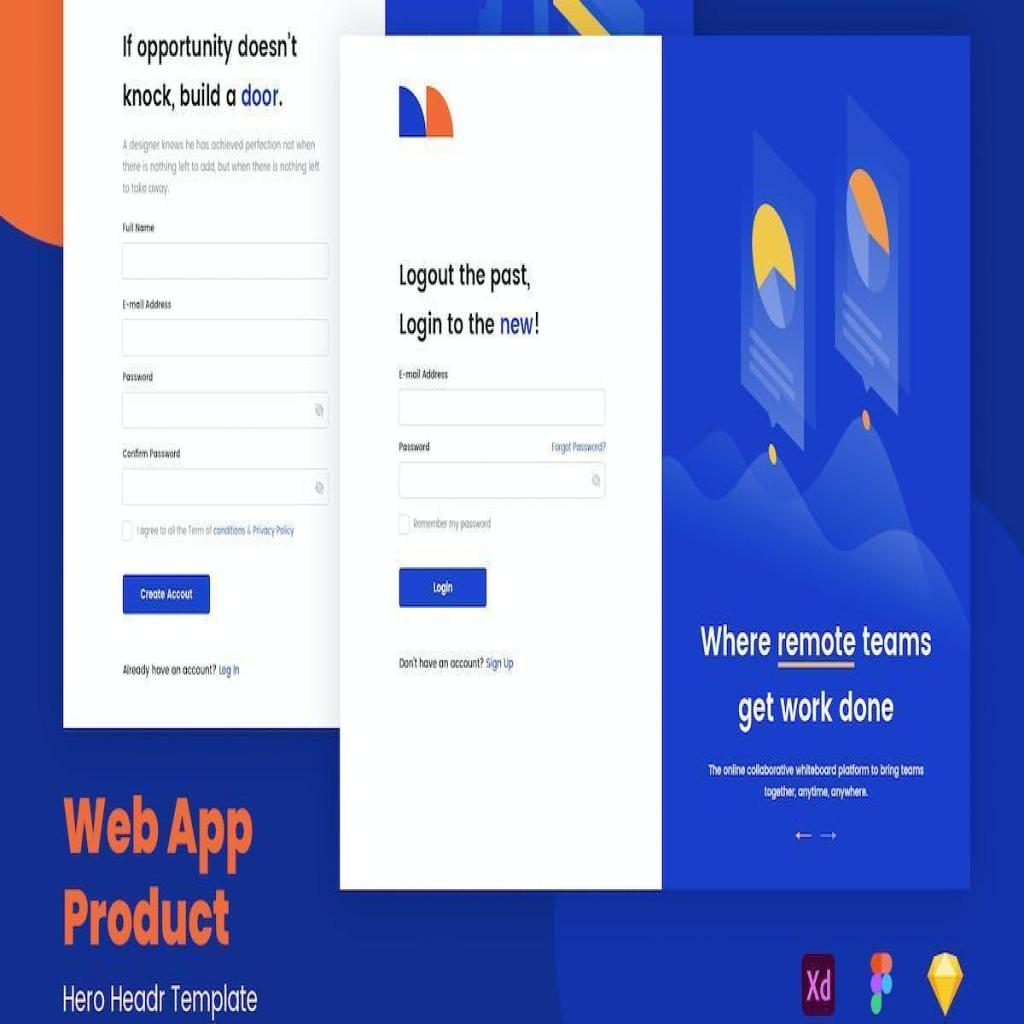button: (122, 574, 211, 614), (400, 569, 486, 608)
checkbox: (396, 510, 412, 536), (120, 516, 135, 542)
input: (122, 467, 329, 507), (398, 389, 605, 429), (120, 317, 328, 356), (398, 463, 606, 501), (122, 242, 329, 280), (122, 392, 330, 429)
label: (394, 252, 542, 345), (136, 520, 294, 543), (411, 515, 494, 533), (121, 292, 174, 316), (121, 446, 184, 464), (400, 369, 452, 385), (119, 368, 157, 388), (123, 216, 155, 239), (398, 439, 434, 455)
